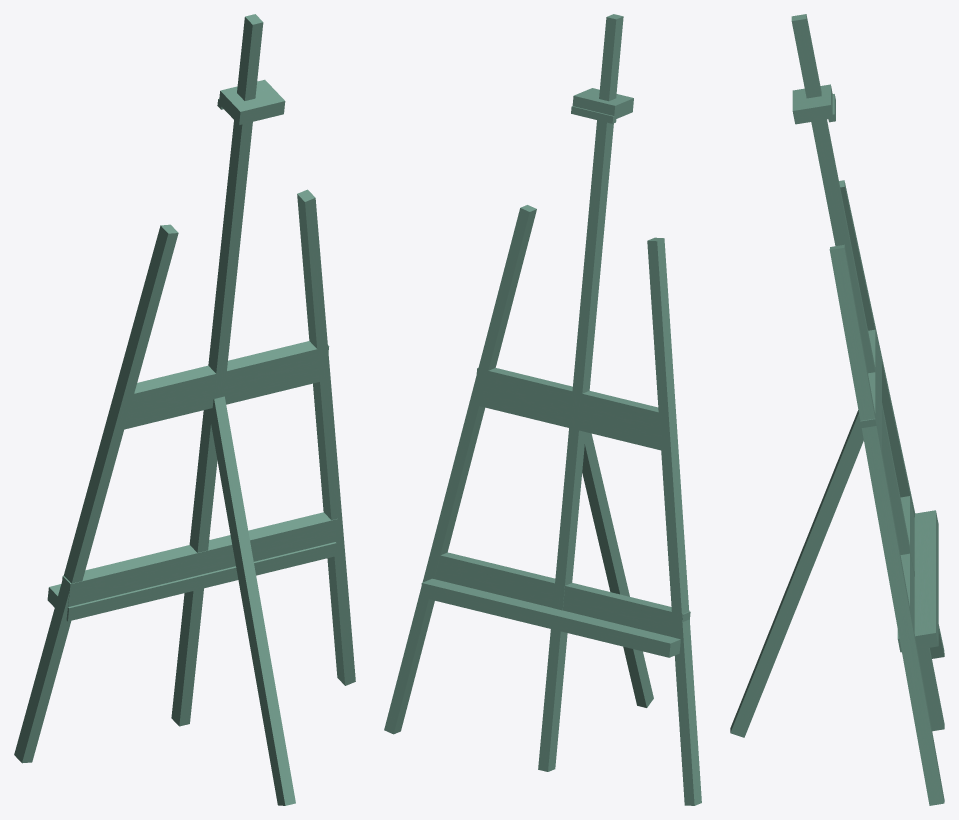
Rendered from Paint-Stand.glb.
3 views of the same model, side by side, from view 1: azimuth 30°, elevation 25°; view 2: azimuth 150°, elevation 25°; view 3: azimuth 270°, elevation 25° (orthographic). The views are drawn at different scales.
Parts seen in each view (by area): view 1: SM_MERGED_StaticMeshActor_146; view 2: SM_MERGED_StaticMeshActor_146; view 3: SM_MERGED_StaticMeshActor_146.
Part boxes in pixels (x1,y1,x2,y2): SM_MERGED_StaticMeshActor_146: (14, 14, 355, 805); SM_MERGED_StaticMeshActor_146: (384, 14, 701, 805); SM_MERGED_StaticMeshActor_146: (730, 14, 944, 805).
Size of the model in its own units: 0.8018 by 1.75 by 0.4741.
1 material, 1 textured.
